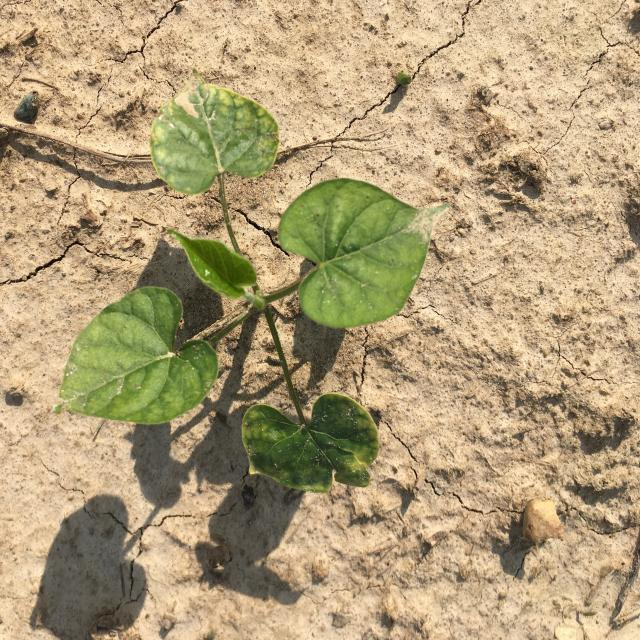MorningGlory: (58, 67, 453, 494)
